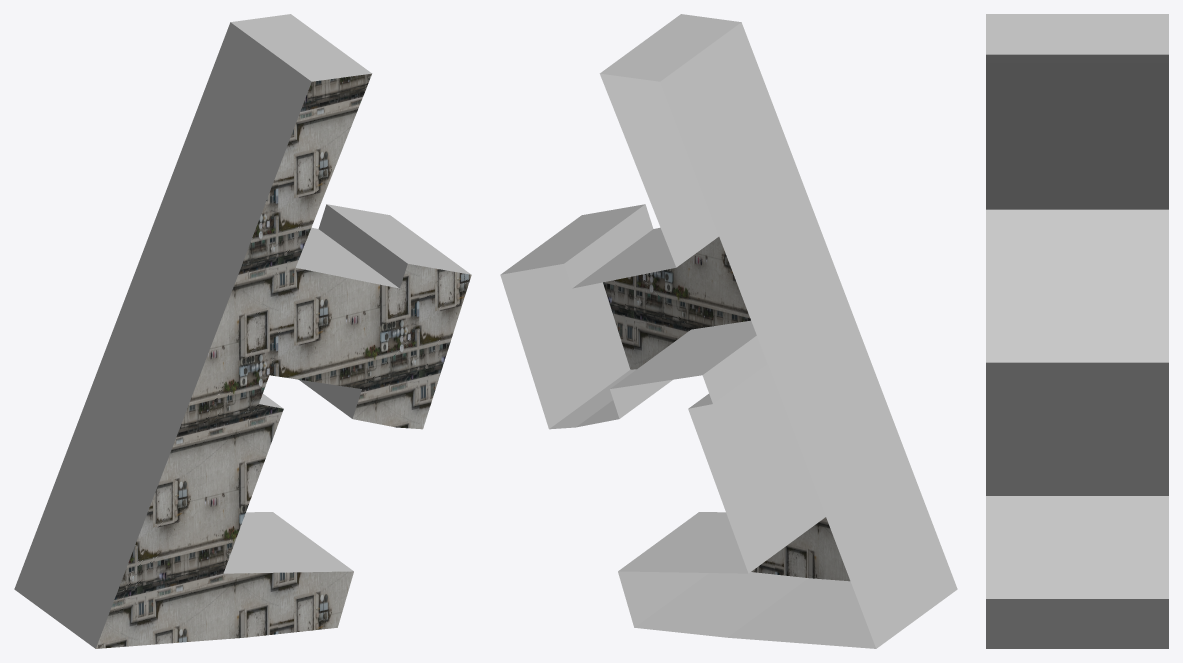
The model's file is geospecific_1631.obj.
The picture shows the model from 3 angles, left to right: view 1: azimuth 30°, elevation 25°; view 2: azimuth 150°, elevation 25°; view 3: azimuth 270°, elevation 25°; orthographic projection. The views are drawn at different scales.
Visible parts, largest first — view 1: Building; view 2: Building; view 3: Building.
Boxes of the visible parts, left/top/right/bottom form: Building: left=14, top=14, right=471, bottom=648; Building: left=500, top=14, right=957, bottom=648; Building: left=986, top=14, right=1168, bottom=648.
Bounding box in the file's own units: 24 × 33.69 × 9.
